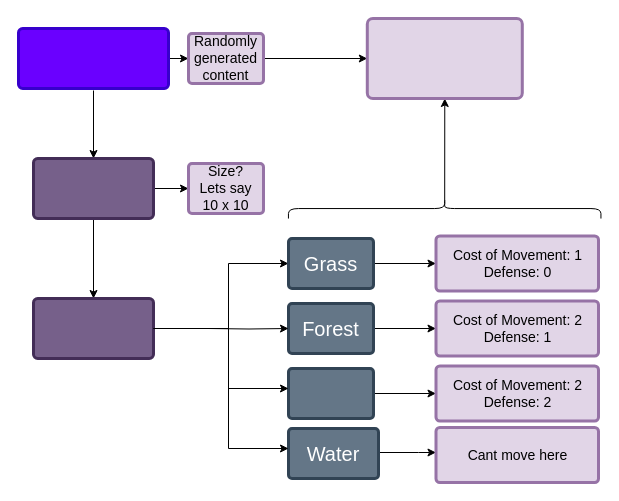
The diagram is 619 pixels wide and 501 high, and some of its shapes have lost their labels. Each missing label, with the box of its shape:
Board: (16, 26, 170, 90)
Each tile can be of 4 types: (32, 296, 154, 360)
Mountain: (286, 366, 374, 420)
Specific rules on how comon these are, and how thay are distributed: (365, 16, 523, 100)
Square Grid: (32, 156, 154, 220)
